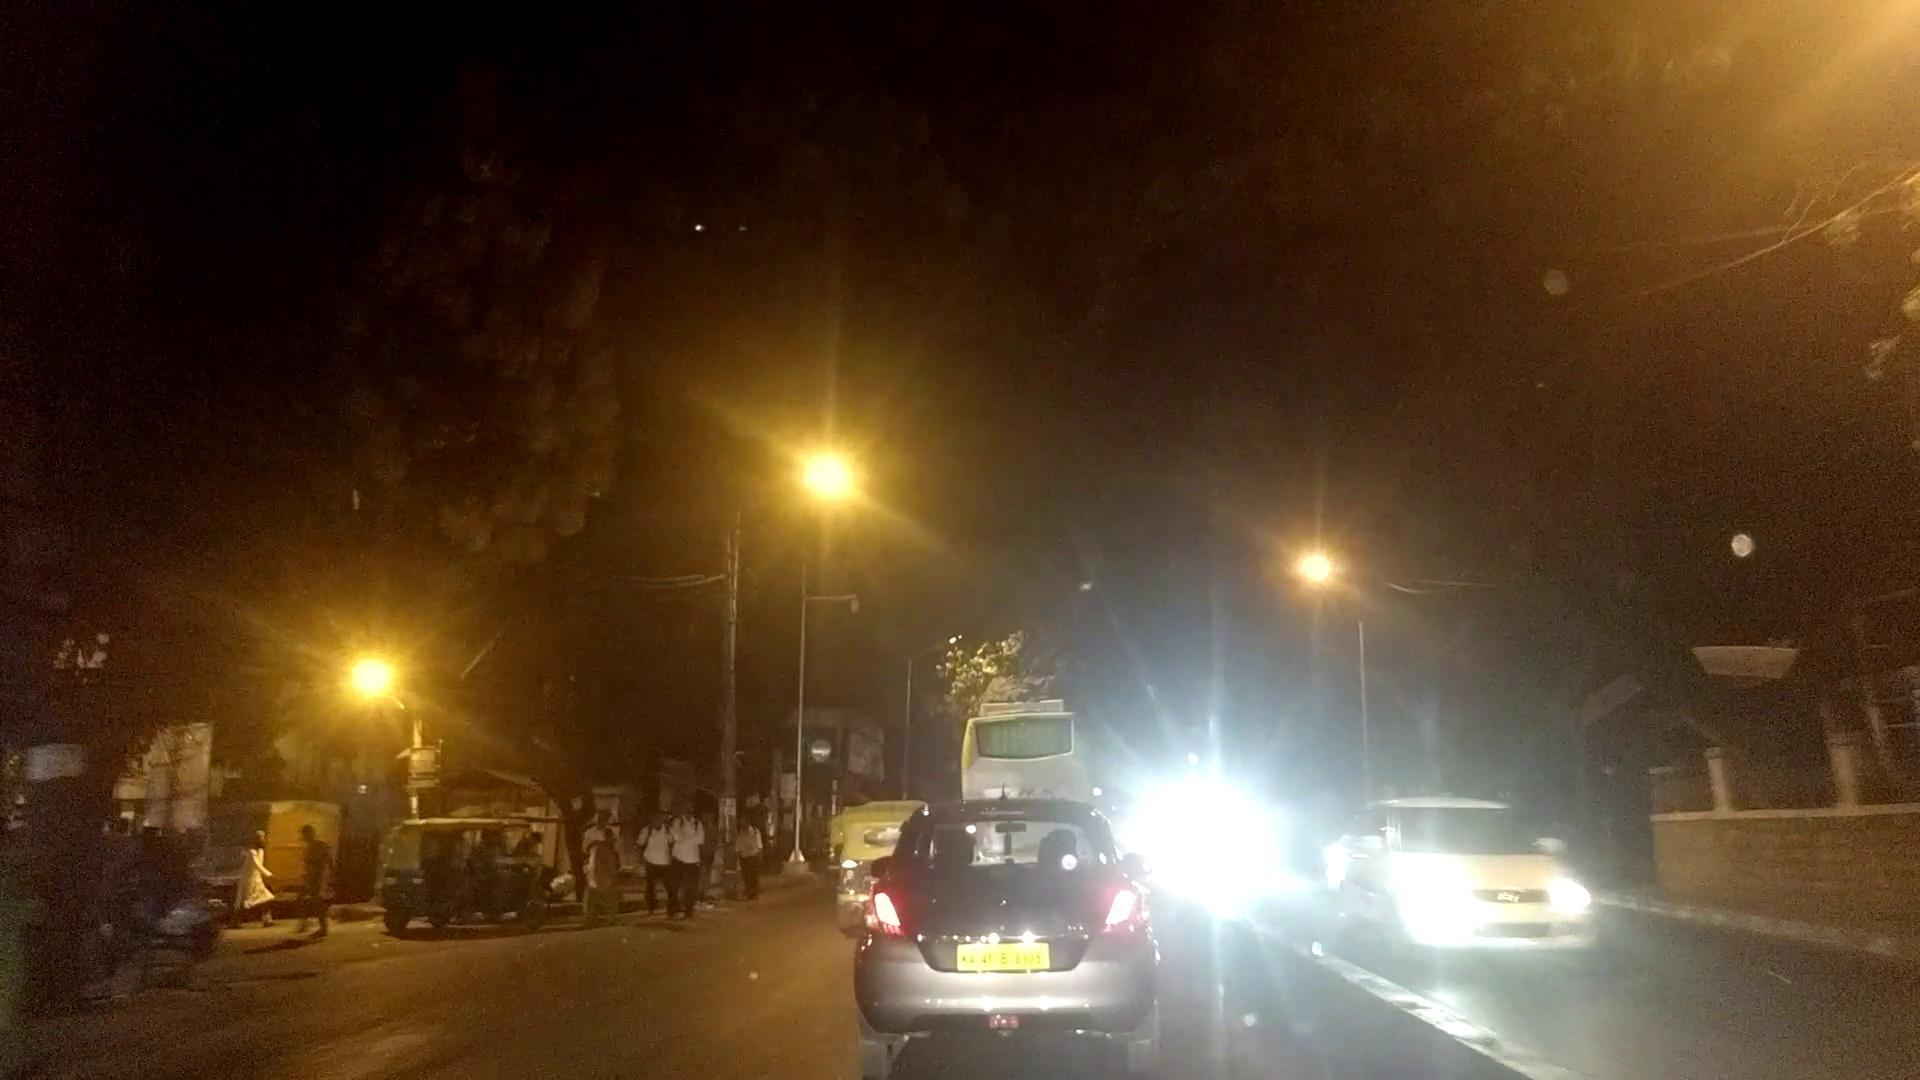on: (240, 411, 496, 851), (709, 302, 943, 651), (1189, 382, 1415, 731)
